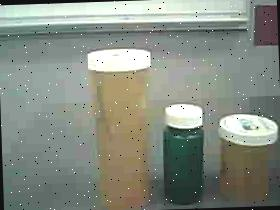Bottle A: (81, 43, 156, 210)
Bottle B: (215, 110, 280, 204)
Bottle C: (159, 100, 210, 210)
